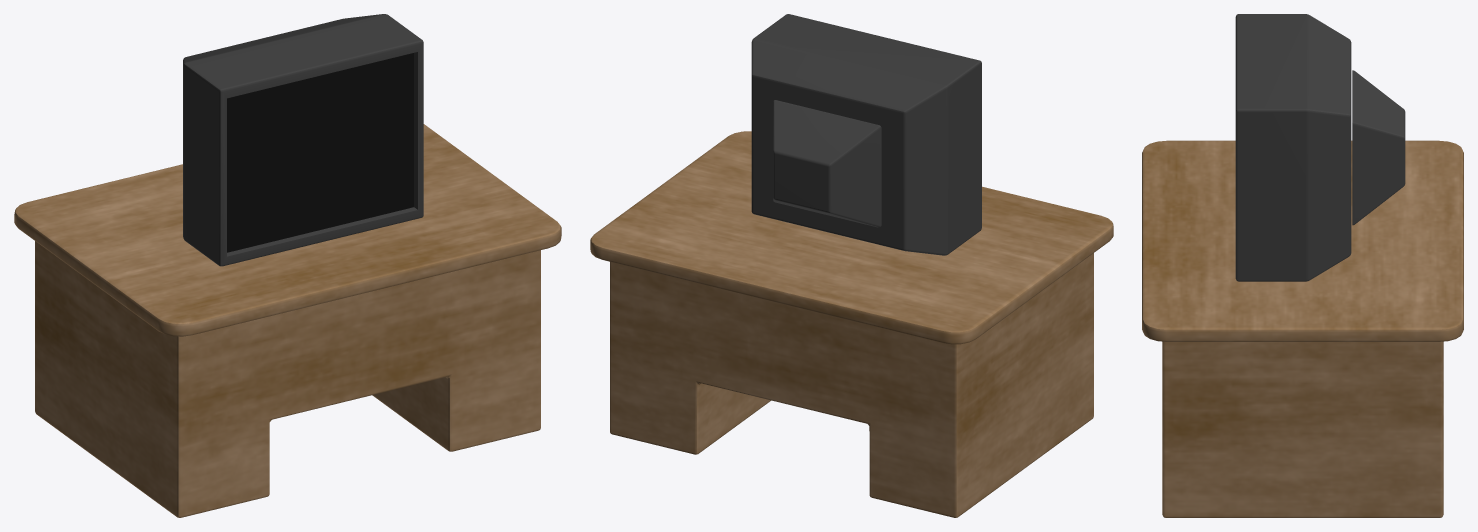
Rendered from Tv_Lvl_2.fbx.
The picture shows the model from 3 angles, left to right: view 1: azimuth 30°, elevation 25°; view 2: azimuth 150°, elevation 25°; view 3: azimuth 270°, elevation 25°; orthographic projection. The views are drawn at different scales.
Visible parts, largest first — view 1: Table_M, Tv_M; view 2: Table_M, Tv_M; view 3: Table_M, Tv_M.
Boxes of the visible parts, <box> form: Table_M: <box>14,124,561,517</box>; Tv_M: <box>183,14,423,266</box>; Table_M: <box>590,131,1113,517</box>; Tv_M: <box>751,14,981,255</box>; Table_M: <box>1142,140,1463,517</box>; Tv_M: <box>1235,14,1405,281</box>.
Size of the model in its own units: 2.18 by 1.99 by 1.56.
1 material, 1 textured.
